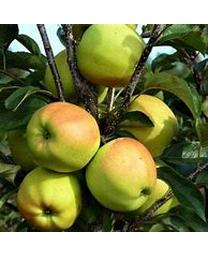apple: (84, 138, 157, 212), (25, 101, 100, 172), (76, 24, 147, 88), (16, 165, 85, 230), (118, 95, 179, 158)
